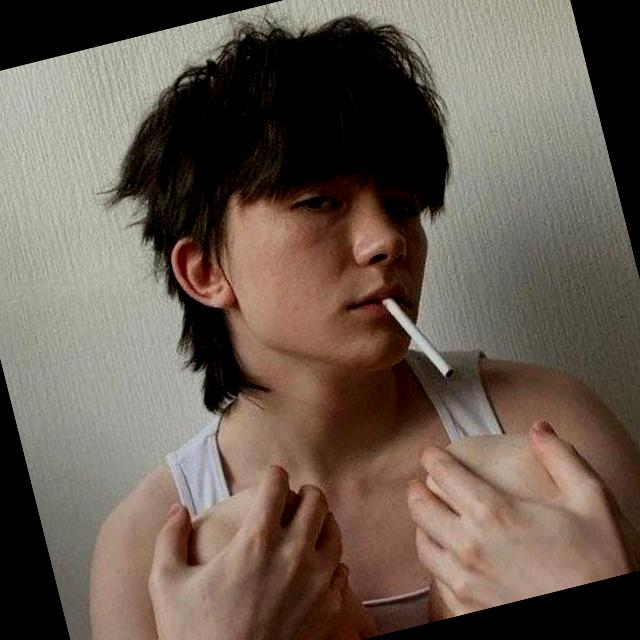smoke: (361, 270, 468, 415)
